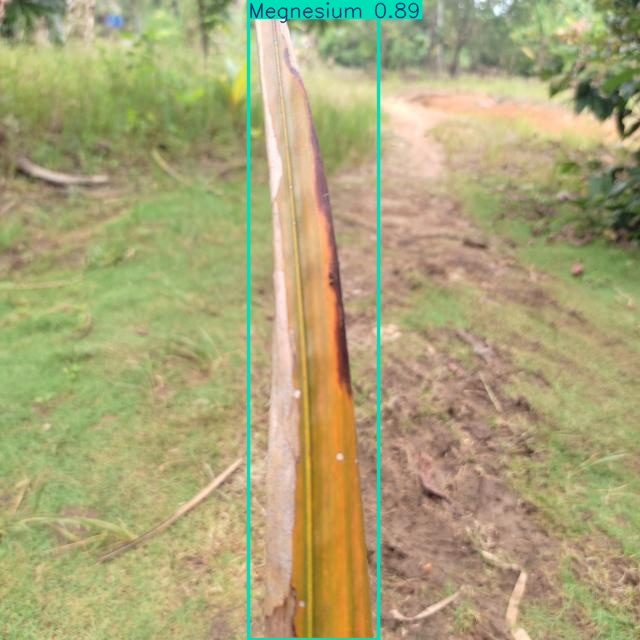Megnesium: (248, 0, 379, 640)
